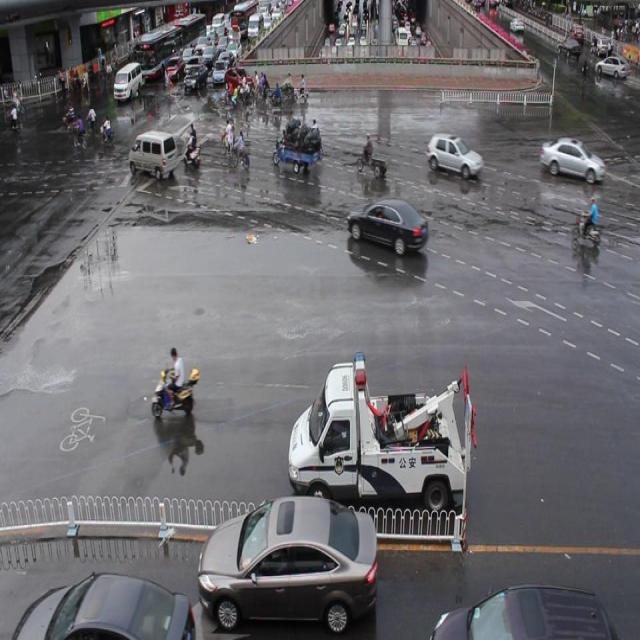bus: (287, 352, 473, 518)
car: (200, 497, 378, 632), (17, 573, 192, 640), (430, 580, 614, 640), (347, 200, 429, 254), (539, 135, 603, 187), (427, 133, 481, 180)
truck: (130, 130, 178, 182)
